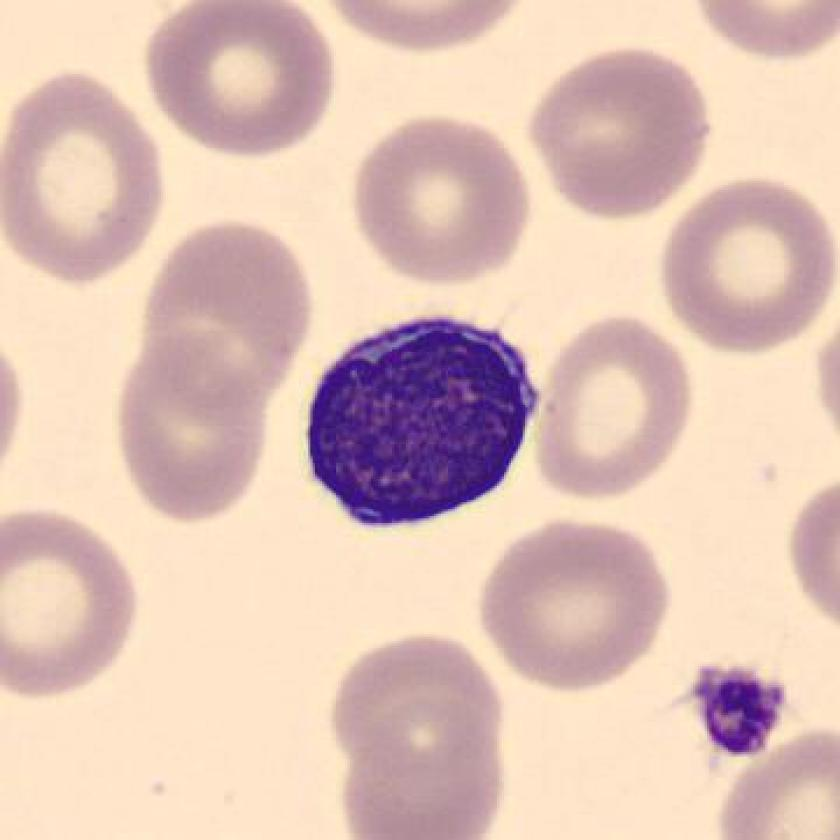lymphocyte: (290, 299, 552, 545)
platelets: (684, 660, 795, 762)
